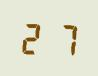seven: (48, 19, 76, 56)
two: (19, 18, 47, 55)
